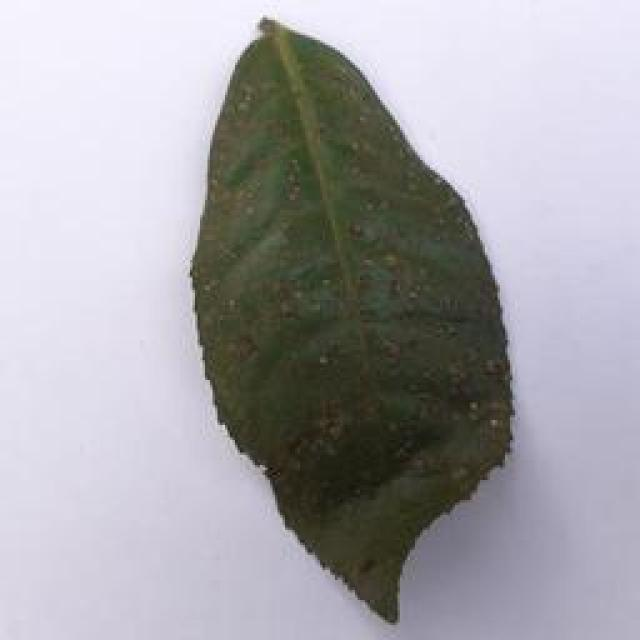Algal Leaf Spot: (183, 8, 515, 630)
